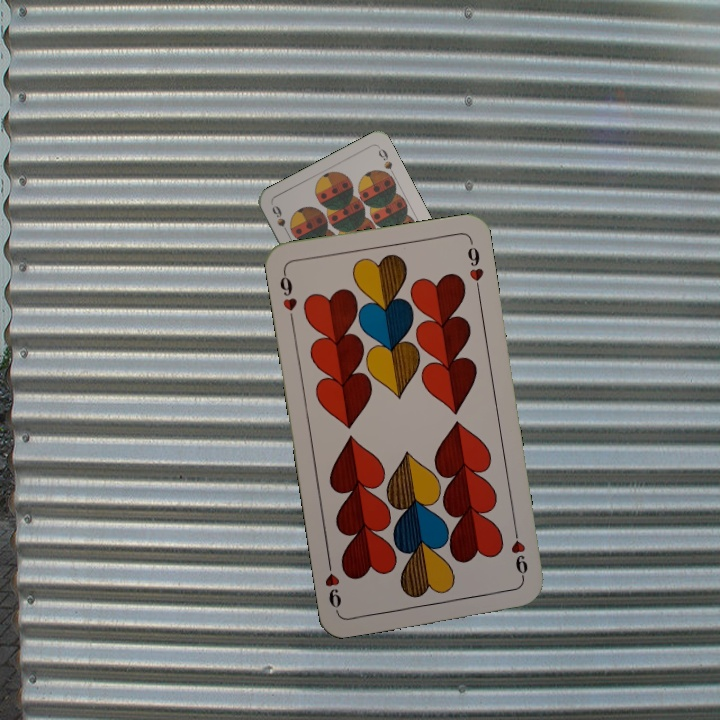H9: (275, 267, 300, 326), (507, 525, 531, 583)
S9: (268, 201, 295, 239)
